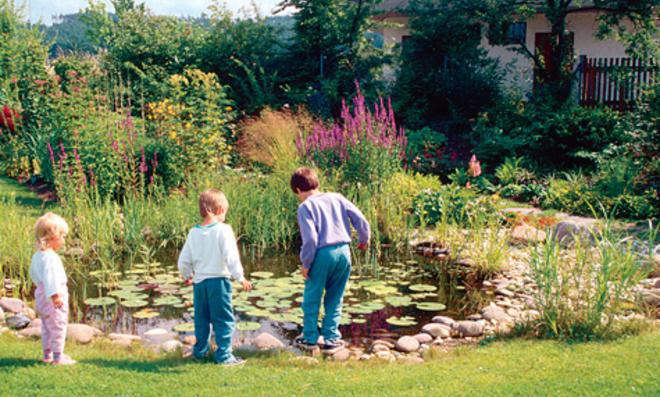child: (280, 163, 375, 358), (174, 188, 252, 375), (25, 208, 81, 364)
